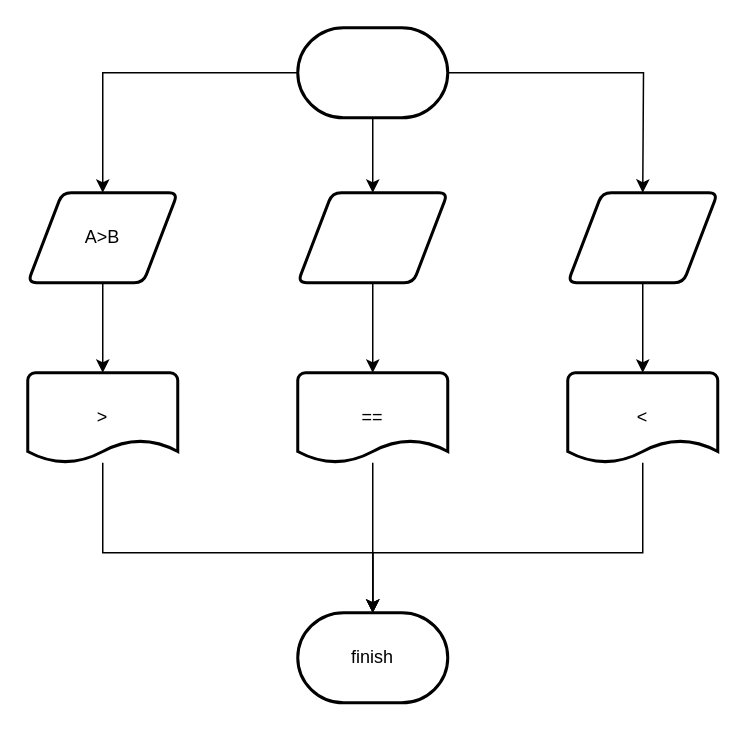
The diagram is 744 pixels wide and 729 high, and some of its shapes have lost their labels. The shapes that lost their labels are listed below. From the top down, each one's centre as x and y in pixels, then its label:
the point at 372,72: start
the point at 372,237: A==B
the point at 642,237: A<B
